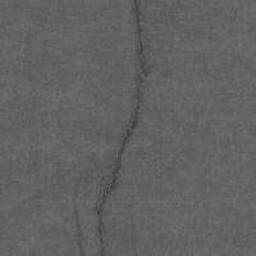Inclusion: (92, 0, 154, 256), (70, 173, 91, 256)
